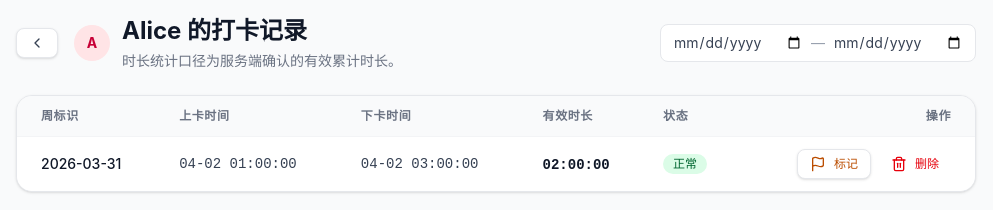
MemberRecordsPage › shows admin actions and updates marked records
The image size is (993, 210).
Expected: the heading "Alice 的打卡记录" is shown, [122, 16, 307, 45]
What coordinates should you click on to do the following:
click the button "标记"
I would click on:
 (834, 164)
Its box is [797, 149, 871, 179].
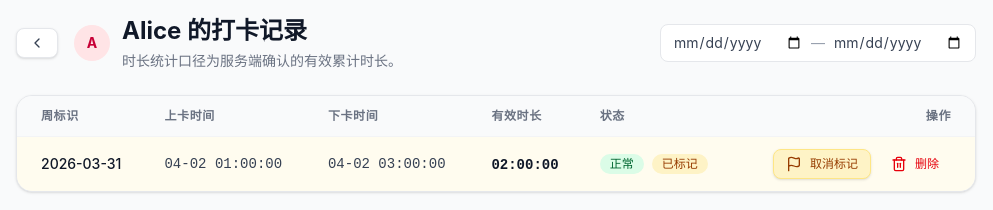
Result: the text "已标记" is shown at [652, 154, 708, 174]
